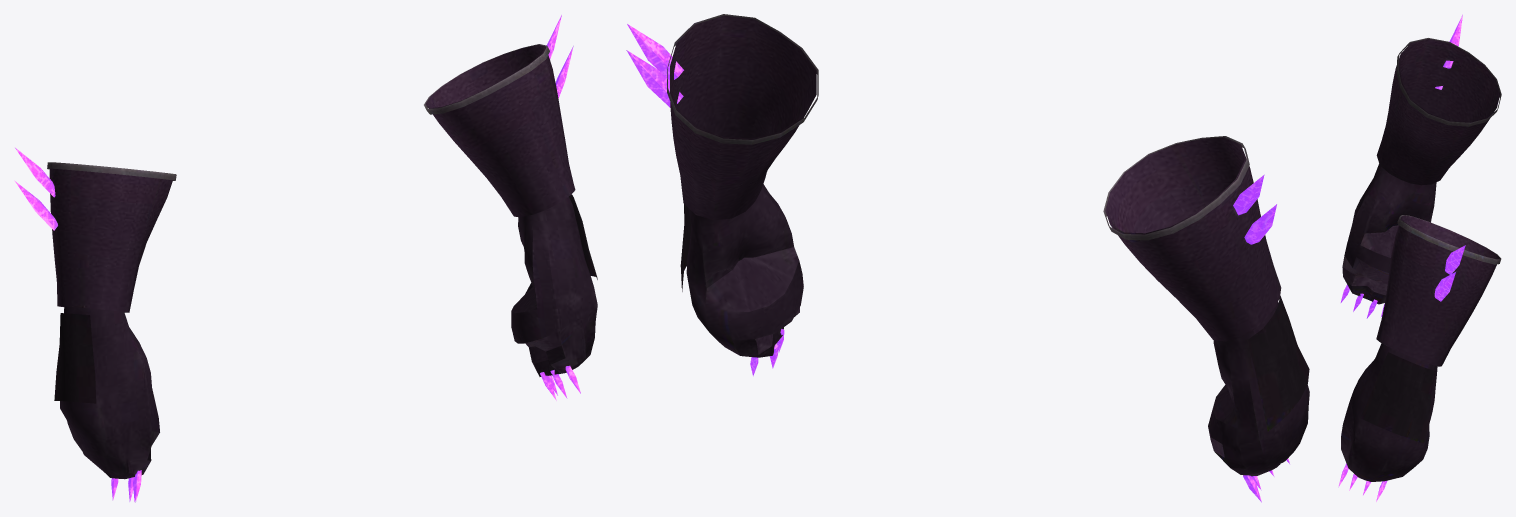
The model's file is Luvas_de_Couro_nivel75.glb.
The picture shows the model from 3 angles, left to right: view 1: azimuth 30°, elevation 25°; view 2: azimuth 150°, elevation 25°; view 3: azimuth 270°, elevation 25°; orthographic projection. The views are drawn at different scales.
Parts seen in each view (by area): view 1: luvas_de_couro_nivel75; view 2: luvas_de_couro_nivel75; view 3: luvas_de_couro_nivel75.
Part boxes in pixels (bbox=[...]): luvas_de_couro_nivel75: bbox=[14, 15, 597, 502]; luvas_de_couro_nivel75: bbox=[626, 14, 1309, 502]; luvas_de_couro_nivel75: bbox=[1338, 14, 1501, 501].
Bounding box in the file's own units: 0.7181 × 0.4066 × 0.2124.
1 material, 1 textured.
